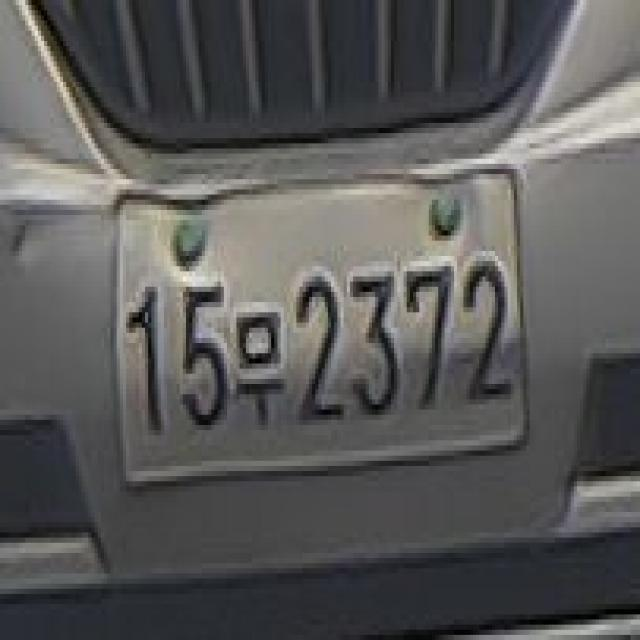1: (120, 266, 170, 451)
2: (460, 240, 520, 420), (293, 256, 347, 440)
3: (347, 251, 403, 435)
5: (174, 272, 234, 446)
7: (400, 241, 460, 425)
license_plate: (101, 148, 545, 502)
mu: (233, 297, 287, 440)
